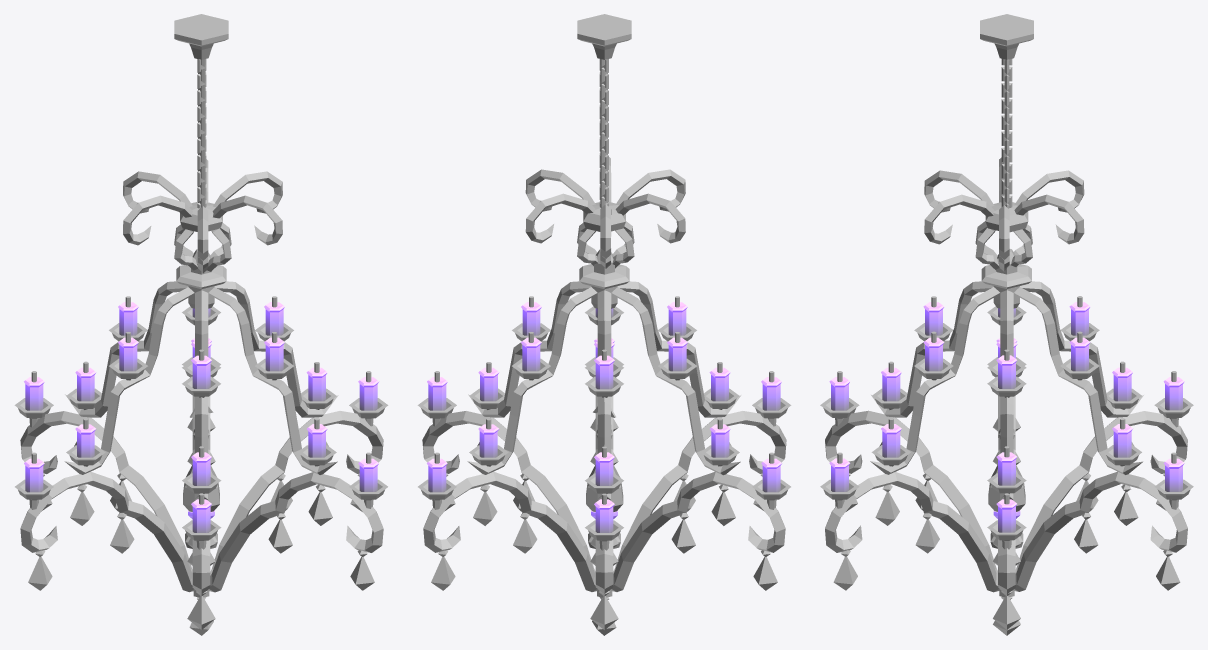
Rendered from SM_Prop_Chandelier_01.fbx.
3 views of the same model, side by side, from view 1: azimuth 30°, elevation 25°; view 2: azimuth 150°, elevation 25°; view 3: azimuth 270°, elevation 25° (orthographic).
Parts seen in each view (by area): view 1: SM_Prop_Chandelier_01, SM_Prop_Chandelier_01_Glass; view 2: SM_Prop_Chandelier_01, SM_Prop_Chandelier_01_Glass; view 3: SM_Prop_Chandelier_01, SM_Prop_Chandelier_01_Glass.
Boxes of the visible parts, bbox=[...] form: SM_Prop_Chandelier_01: bbox=[14, 14, 388, 635]; SM_Prop_Chandelier_01_Glass: bbox=[183, 429, 219, 511]; SM_Prop_Chandelier_01: bbox=[417, 14, 791, 635]; SM_Prop_Chandelier_01_Glass: bbox=[586, 429, 623, 511]; SM_Prop_Chandelier_01: bbox=[820, 14, 1193, 635]; SM_Prop_Chandelier_01_Glass: bbox=[988, 429, 1025, 511].
Size of the model in its own units: 173 by 276 by 154.
